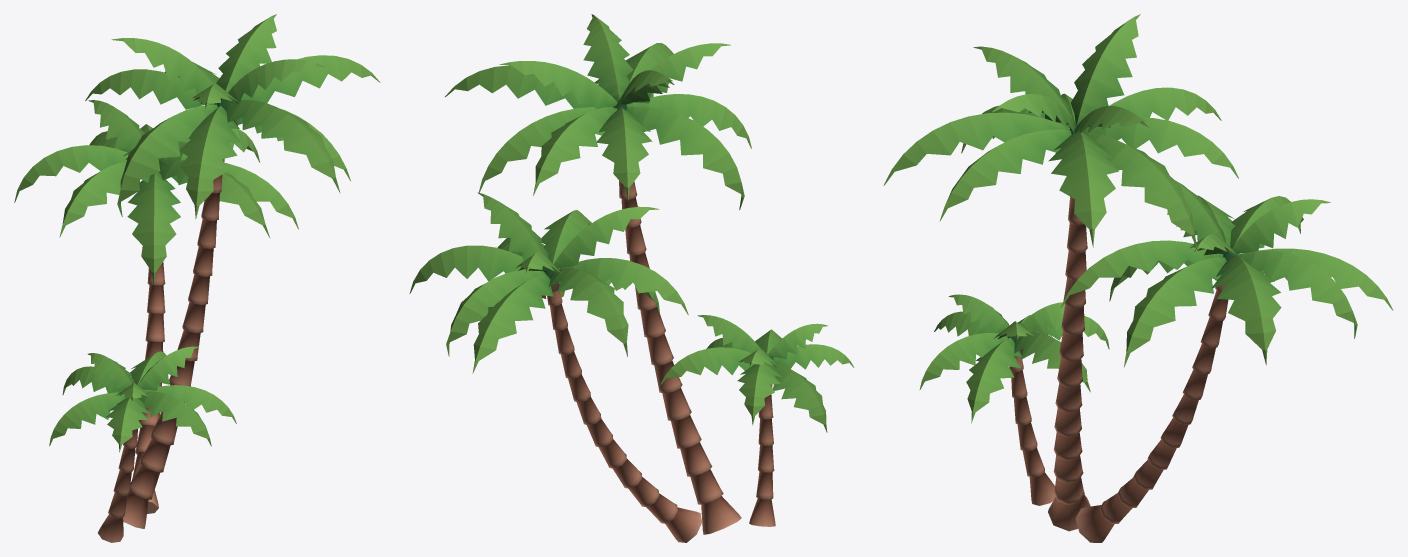
The model's file is palm_trio.glb.
The picture shows the model from 3 angles, left to right: view 1: azimuth 30°, elevation 25°; view 2: azimuth 150°, elevation 25°; view 3: azimuth 270°, elevation 25°; orthographic projection. The views are drawn at different scales.
Visible parts, largest first — view 1: palm_trio; view 2: palm_trio; view 3: palm_trio.
Boxes of the visible parts, x1=… form: palm_trio: x1=14, y1=14, x2=380, y2=542; palm_trio: x1=409, y1=14, x2=854, y2=542; palm_trio: x1=883, y1=14, x2=1393, y2=542.
Bounding box in the file's own units: 9.04 × 11.39 × 10.07.
